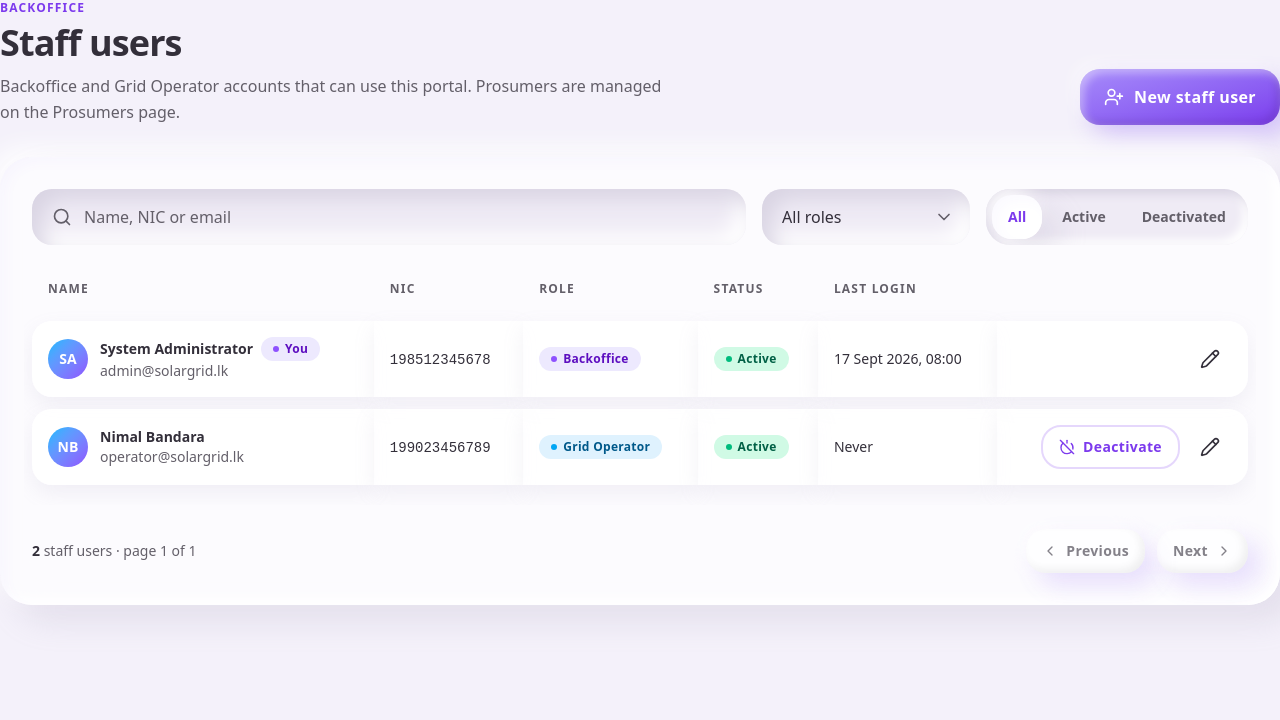
Test: UsersPage › shows the API reason when a status change is refused
The width and height of the screenshot is (1280, 720).
Expected: the text "Nimal Bandara" is shown, 100,427 -> 205,446
Click the button "Deactivate" at (1111, 447), box 1041,425 -> 1180,469
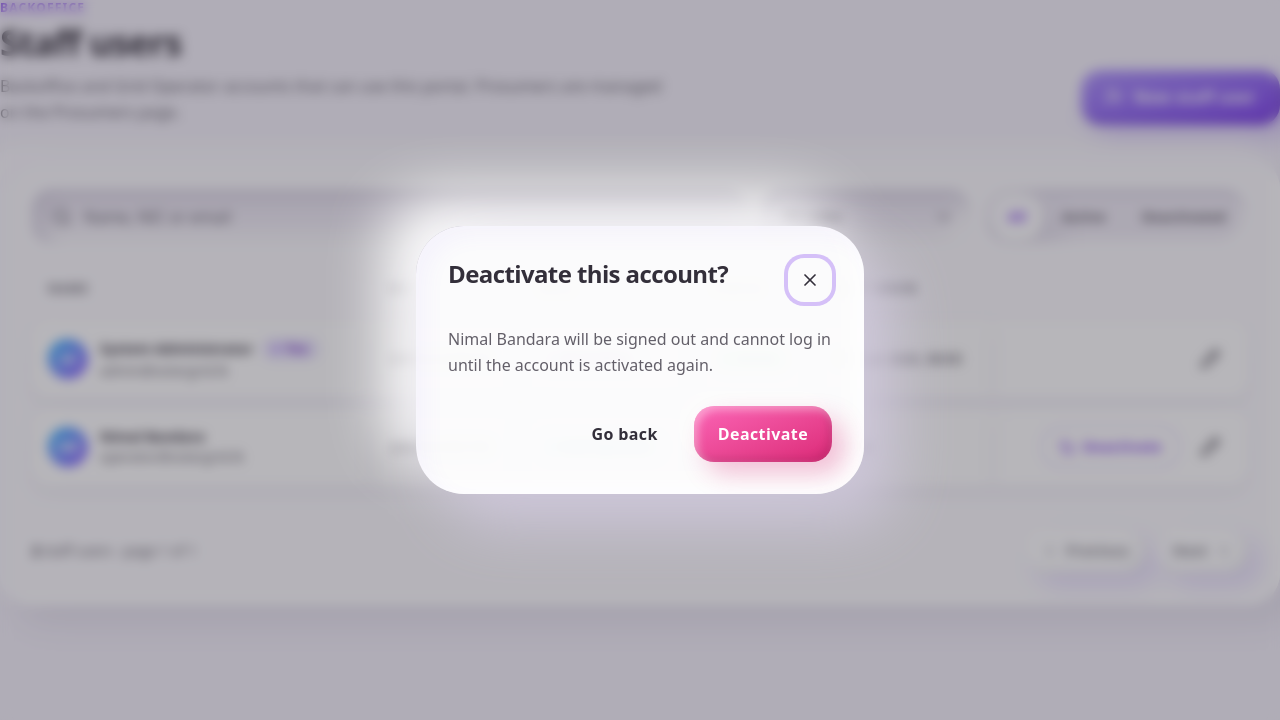
Click the button "Deactivate" at (763, 434), box 694,406 -> 832,462
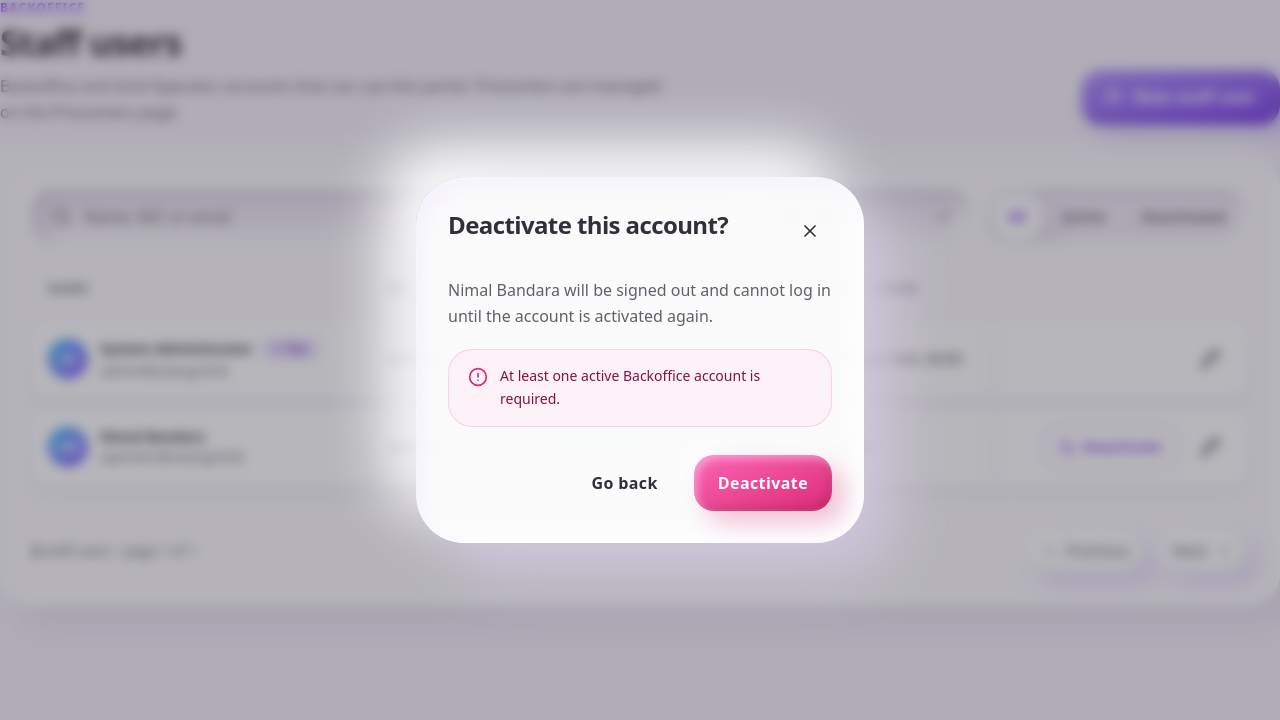
Result: the message reads "At least one active Backoffice account is required." at 500,366 -> 760,408
